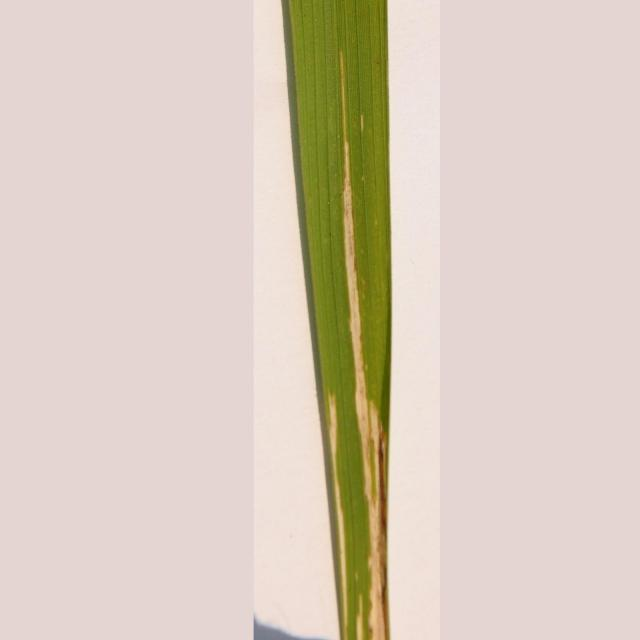leaf blight: (316, 46, 402, 640)
